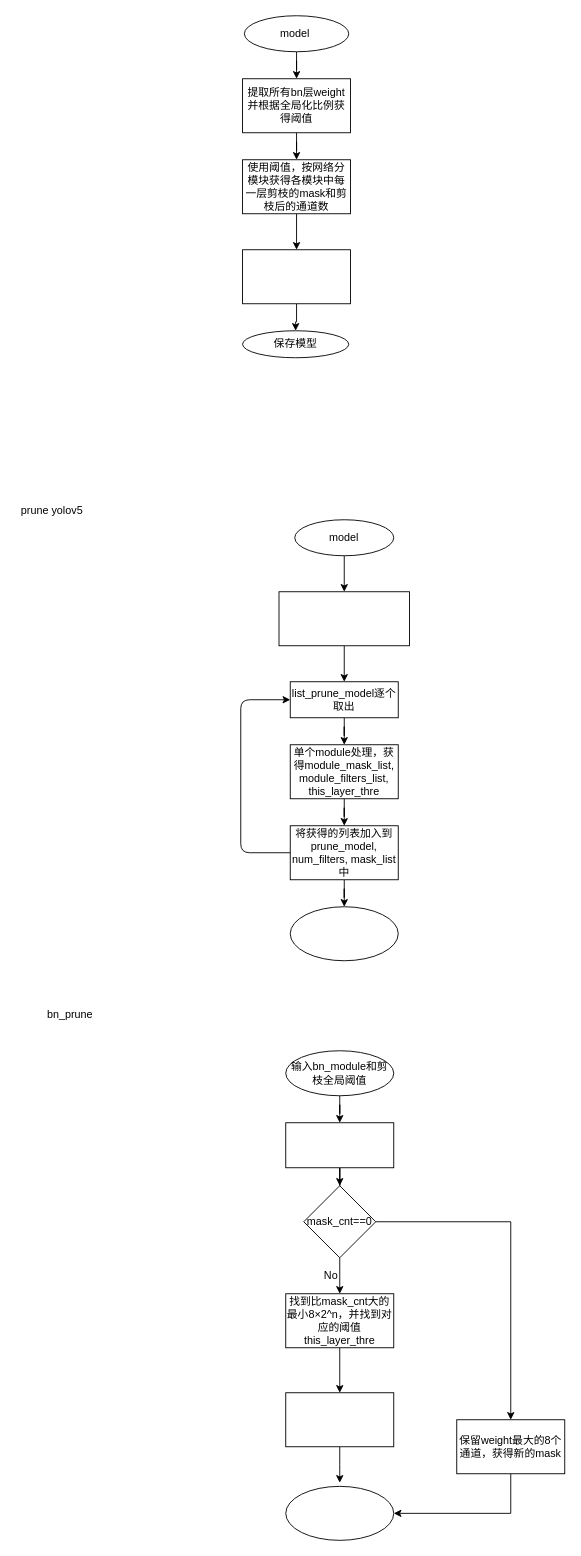
Image size: 581x1556. Some labels were removed from this diagram. The centre of each missing label's shape, as x and y in pixels:
"使用this_layer_thre获得新的mask" goes at (339,1419).
"根据全局阈值获得bn层mask，计算非零值数量mask_cnt" goes at (339,1145).
"获得模型个module列表list_prune_model，并创建num_filters, mask_list" goes at (344,618).
"输出 num_filters, mask_list" goes at (343,933).
"返回mask, remain, this_layer_thre" goes at (339,1512).
"重新生成网络" goes at (296,276).
